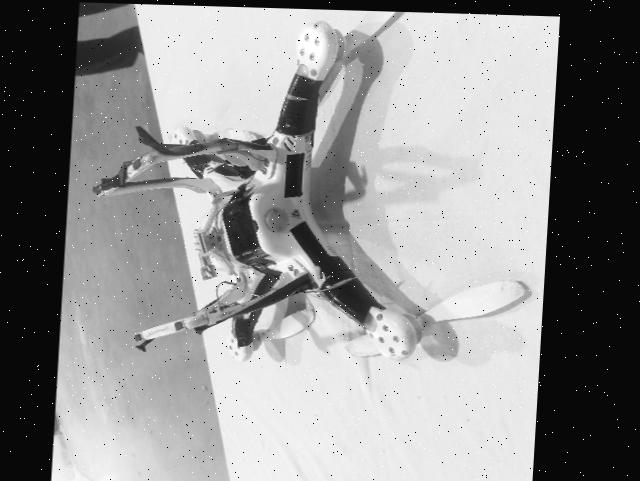drone: (94, 3, 471, 368)
